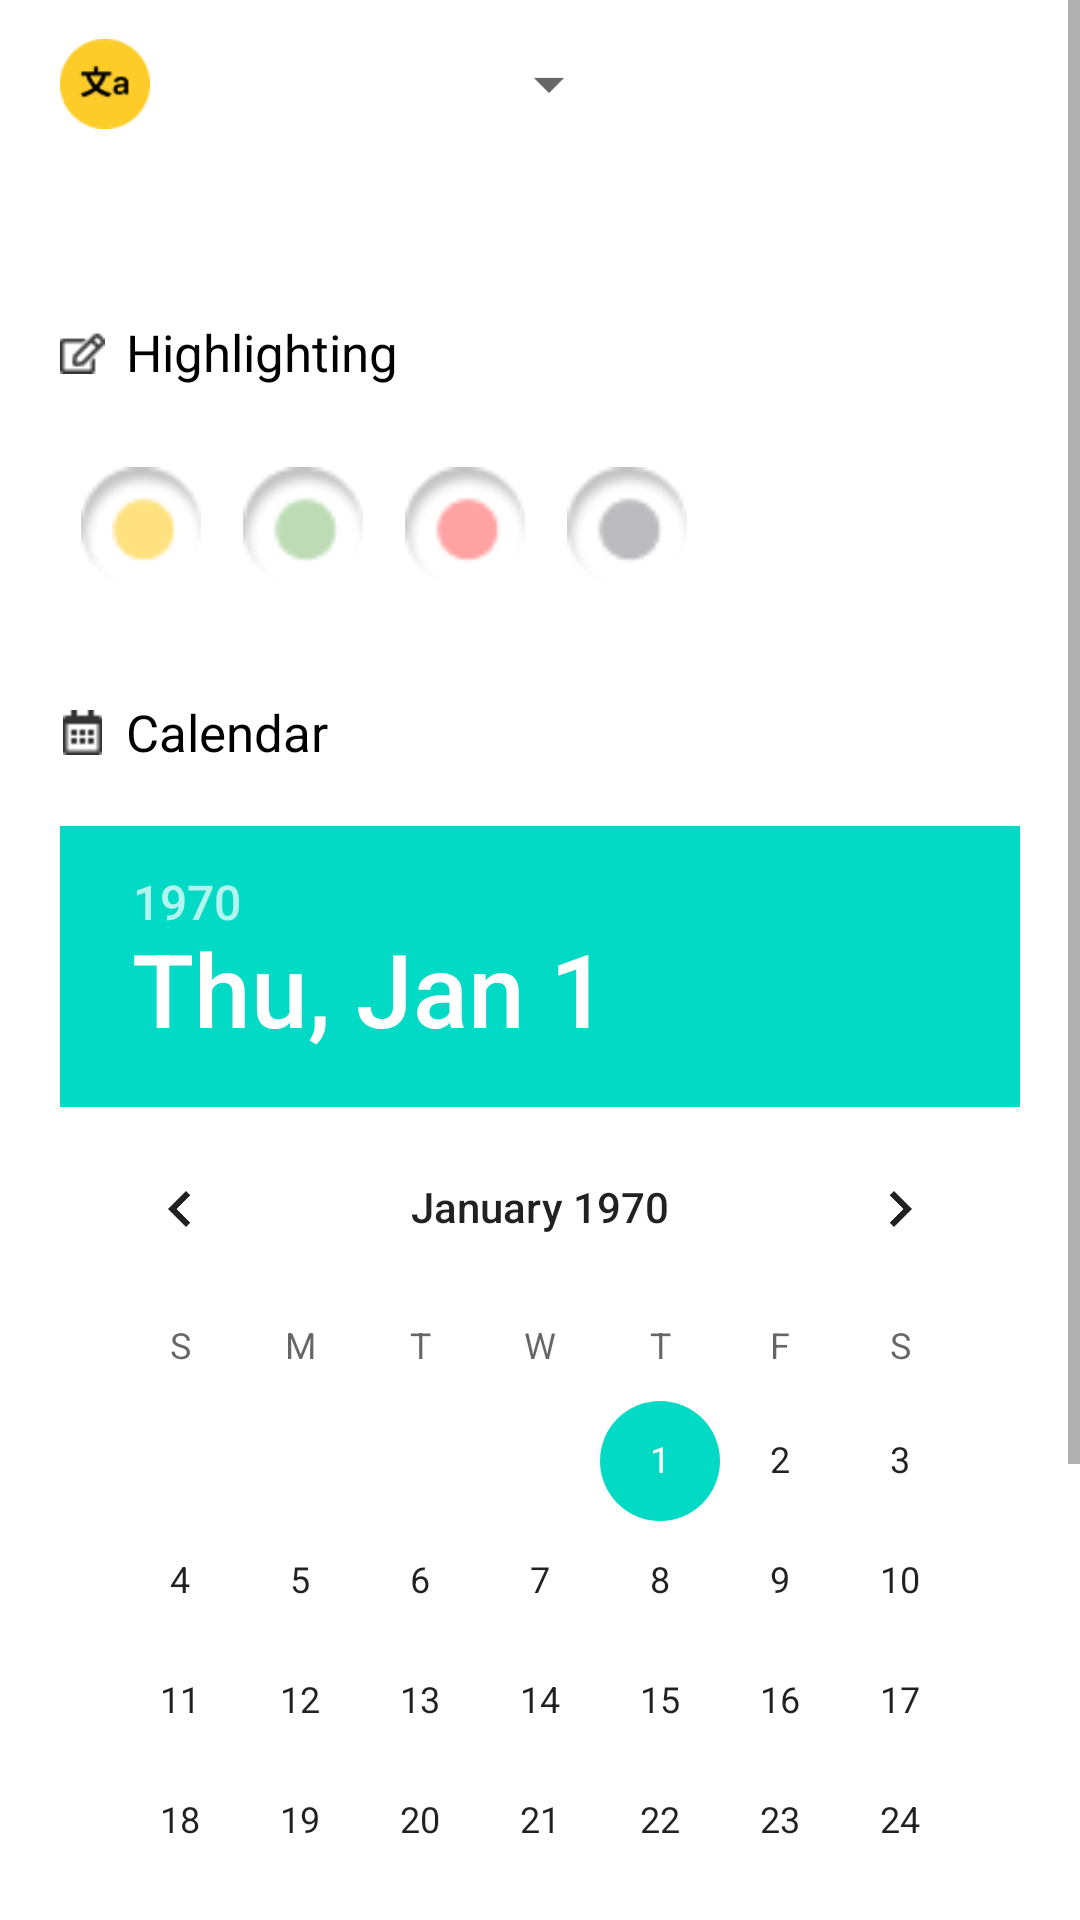

Where to tap for icons on this 1080×1920 app screen, as (x=x, y=y):
language: (x=105, y=84)
